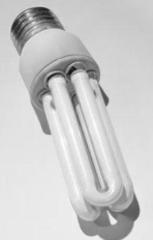lightbulb: (10, 6, 140, 239)
